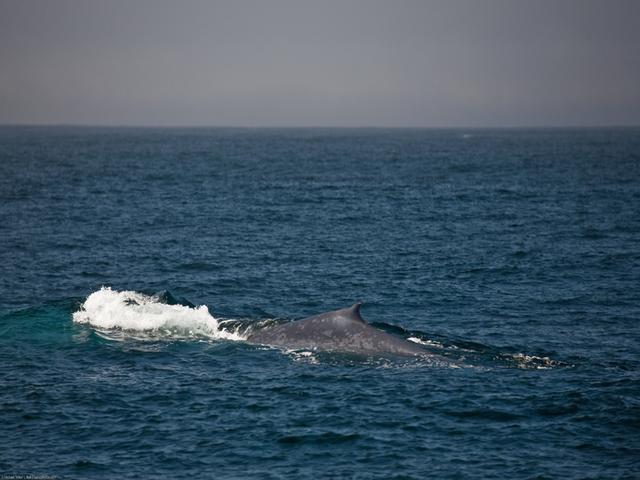dolphin: (84, 253, 548, 415)
